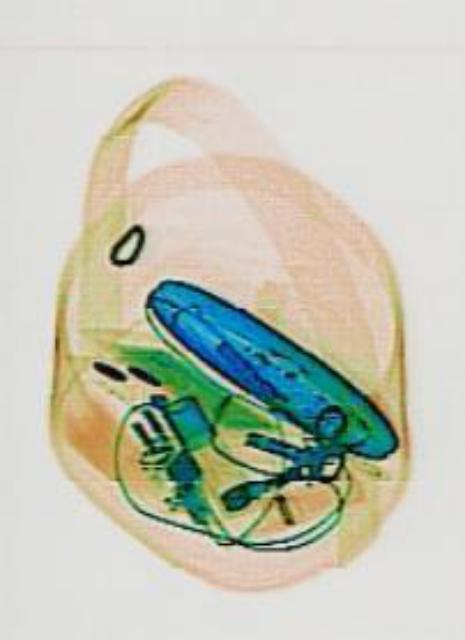Scissors: (236, 400, 347, 494)
